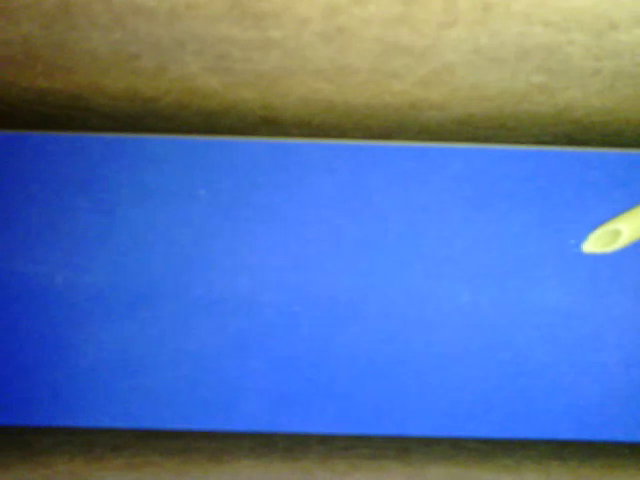penne: (580, 204, 639, 254)
